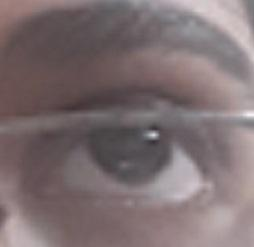open: (23, 83, 241, 228)
